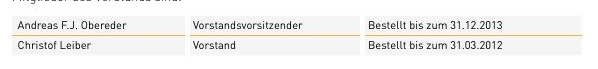table: (0, 0, 598, 69)
